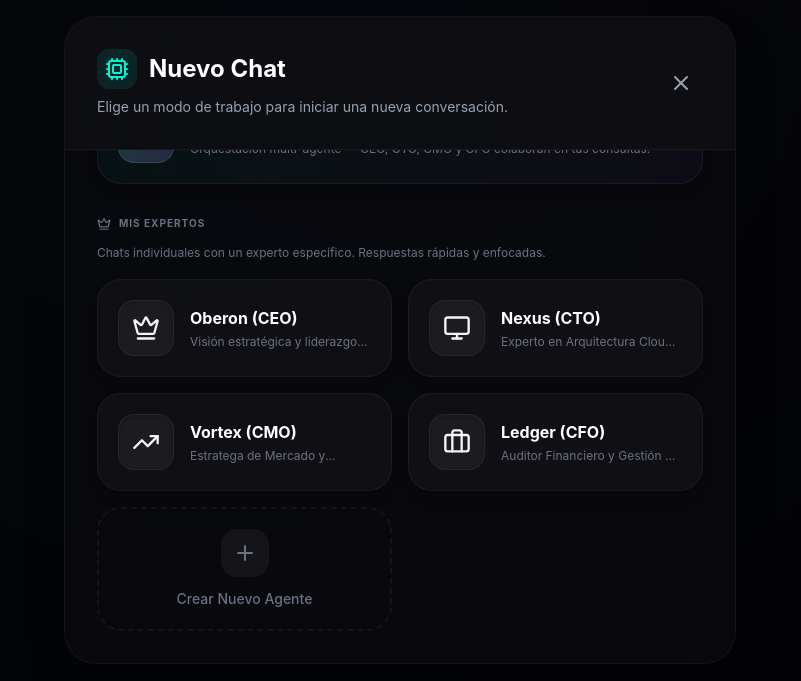
Test: AgentSelectorModal - Comportamiento de UI › debe abrir el asistente de creación de agente
(page scrolled)
Click the button "Crear Nuevo Agente". click: (244, 568)
box: [97,506,392,630]
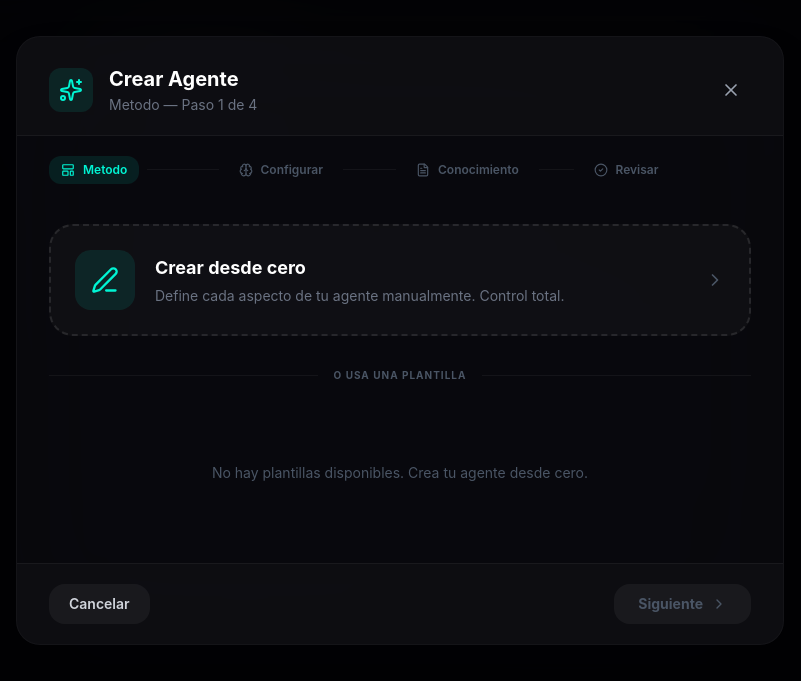
Expected: the heading "Crear Agente" is shown, [109,64,257,92]
Expected: the text "Crear desde cero" is shown, [155,256,306,278]
Expected: the text "o usa una plantilla" is shown, [334,368,466,382]
